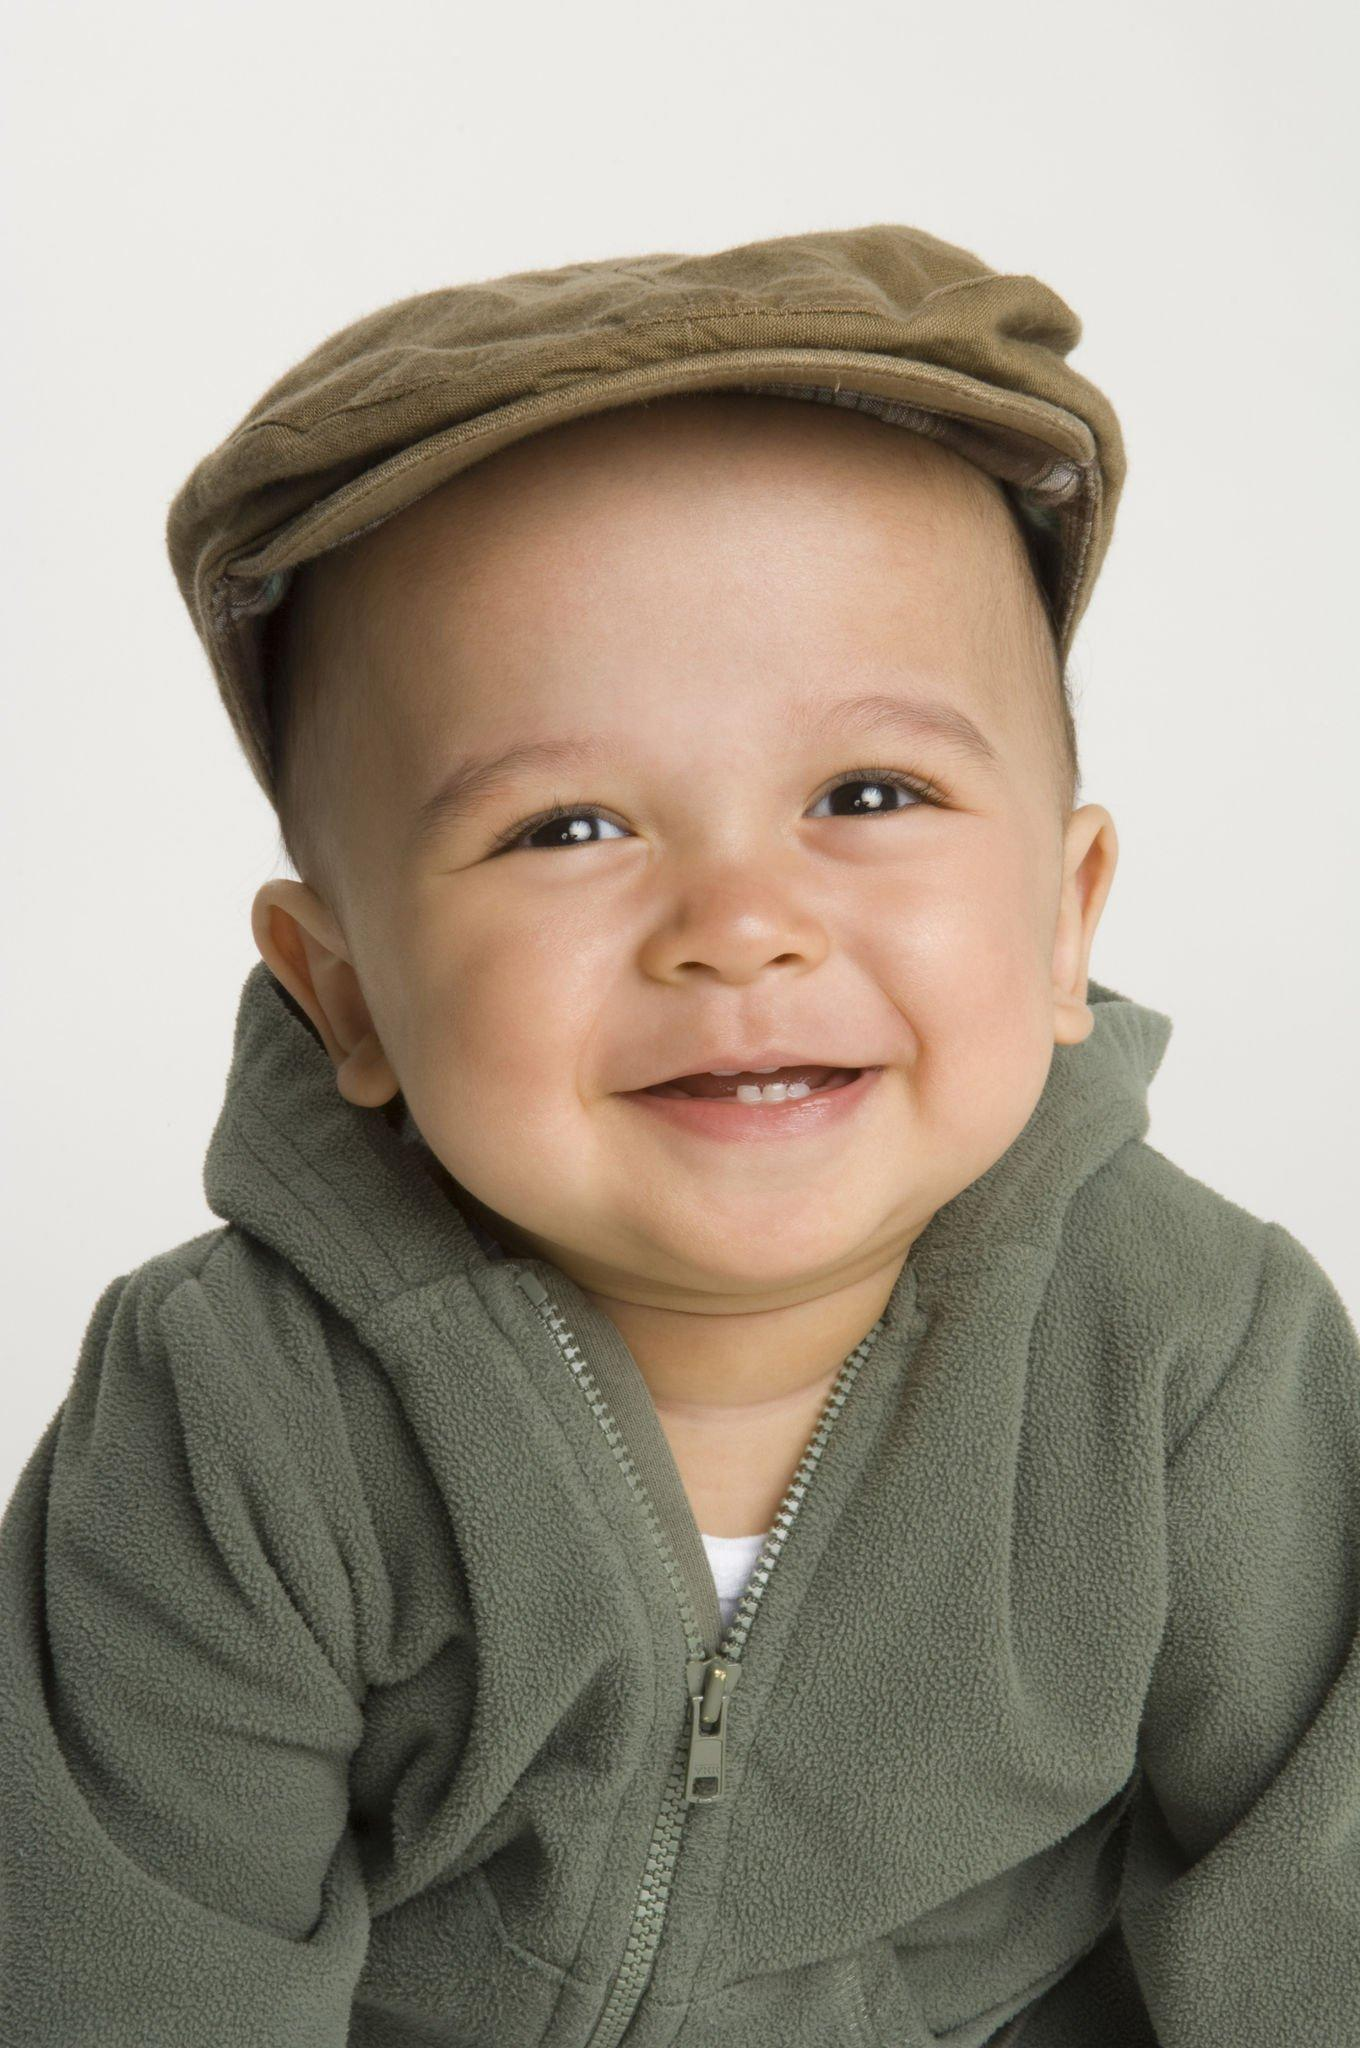Healthy: (252, 461, 1125, 1283)
